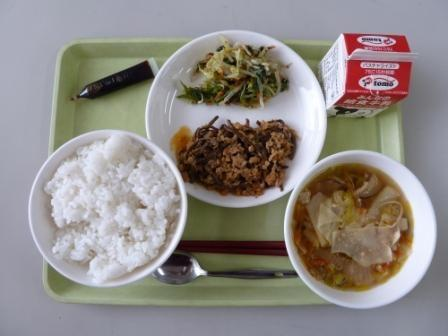Milk: (321, 26, 413, 129)
Rice: (31, 130, 183, 290)
Soups: (285, 164, 423, 295)
cooked food based on meat: (176, 115, 296, 196)
salad with sauce: (177, 34, 289, 107)
